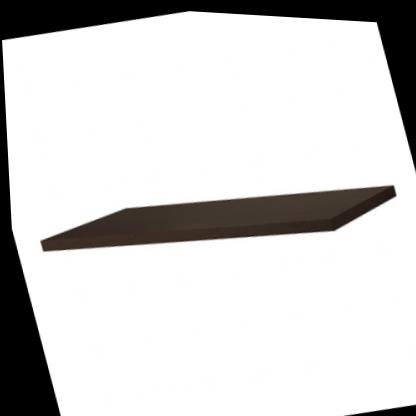Table: (20, 135, 416, 305)
